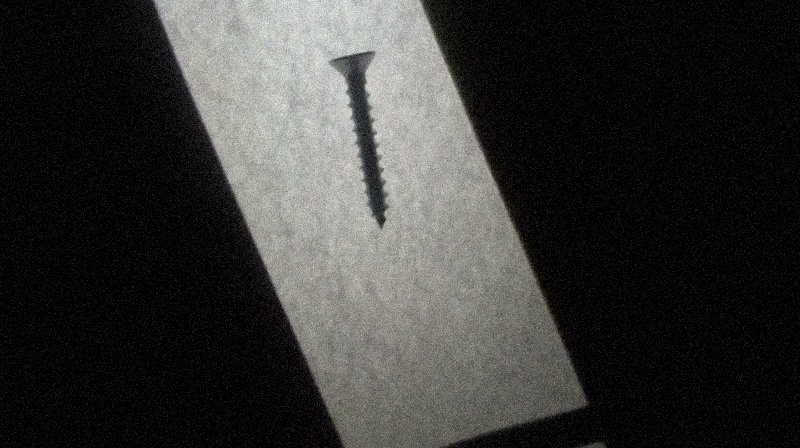S001: (326, 44, 391, 232)
